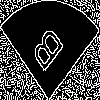B: (25, 24, 65, 81)
